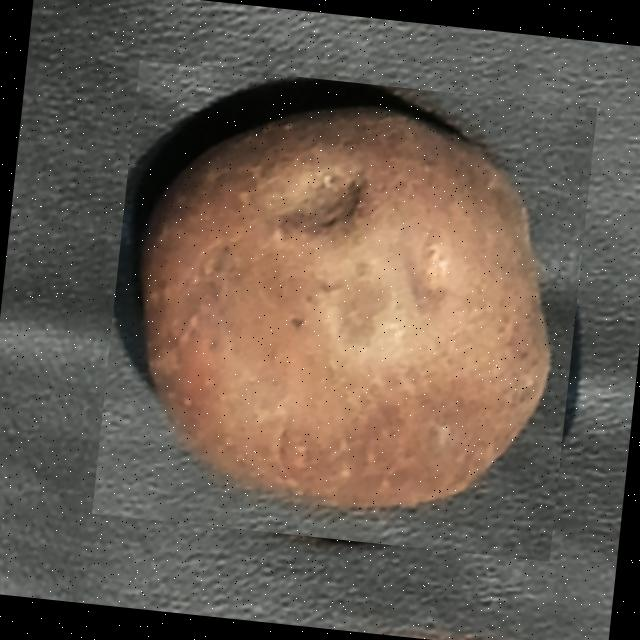Diseased-fungal potato: (90, 59, 596, 562)
